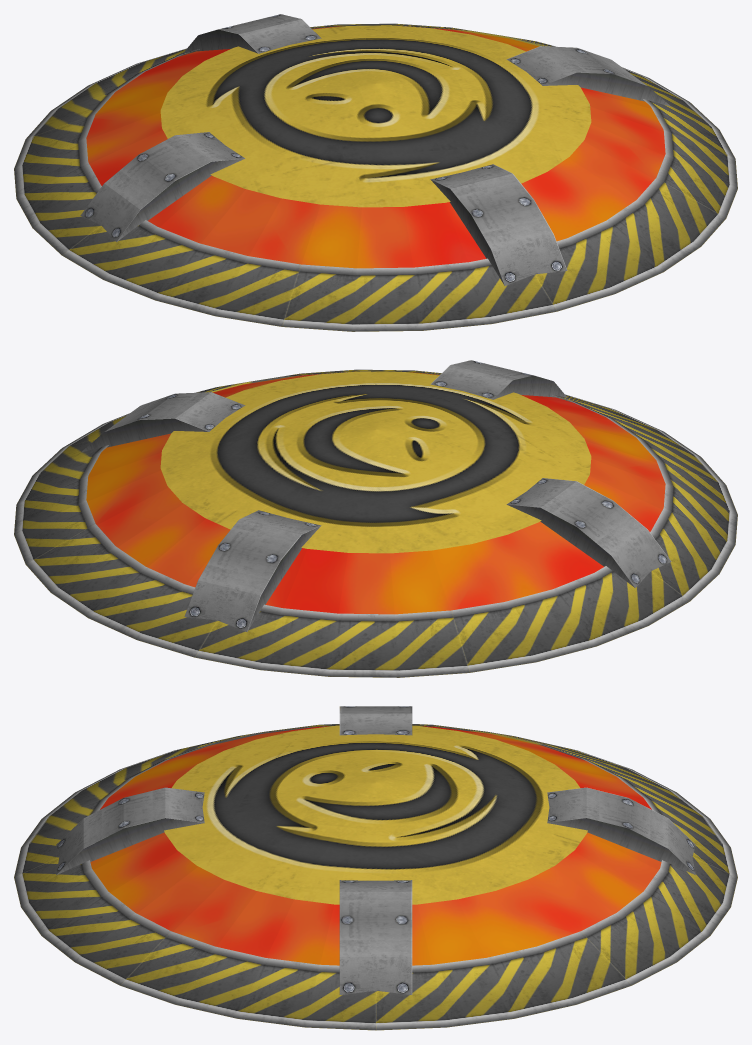
File: landmine.fbx
3 views of the same model, one above another, from view 1: azimuth 30°, elevation 25°; view 2: azimuth 150°, elevation 25°; view 3: azimuth 270°, elevation 25° (orthographic).
Visible parts, largest first — view 1: Base#2, Energy#2; view 2: Base#2, Energy#2; view 3: Base#2, Energy#2.
Boxes of the visible parts, x1,y1,x2,y2 form: Base#2: (14, 14, 737, 331); Energy#2: (86, 25, 665, 268); Base#2: (14, 360, 737, 677); Energy#2: (86, 371, 665, 614); Base#2: (14, 706, 737, 1030); Energy#2: (90, 726, 661, 965).
Size of the model in its own units: 1 by 0.145 by 1.
2 materials, 2 textured.
